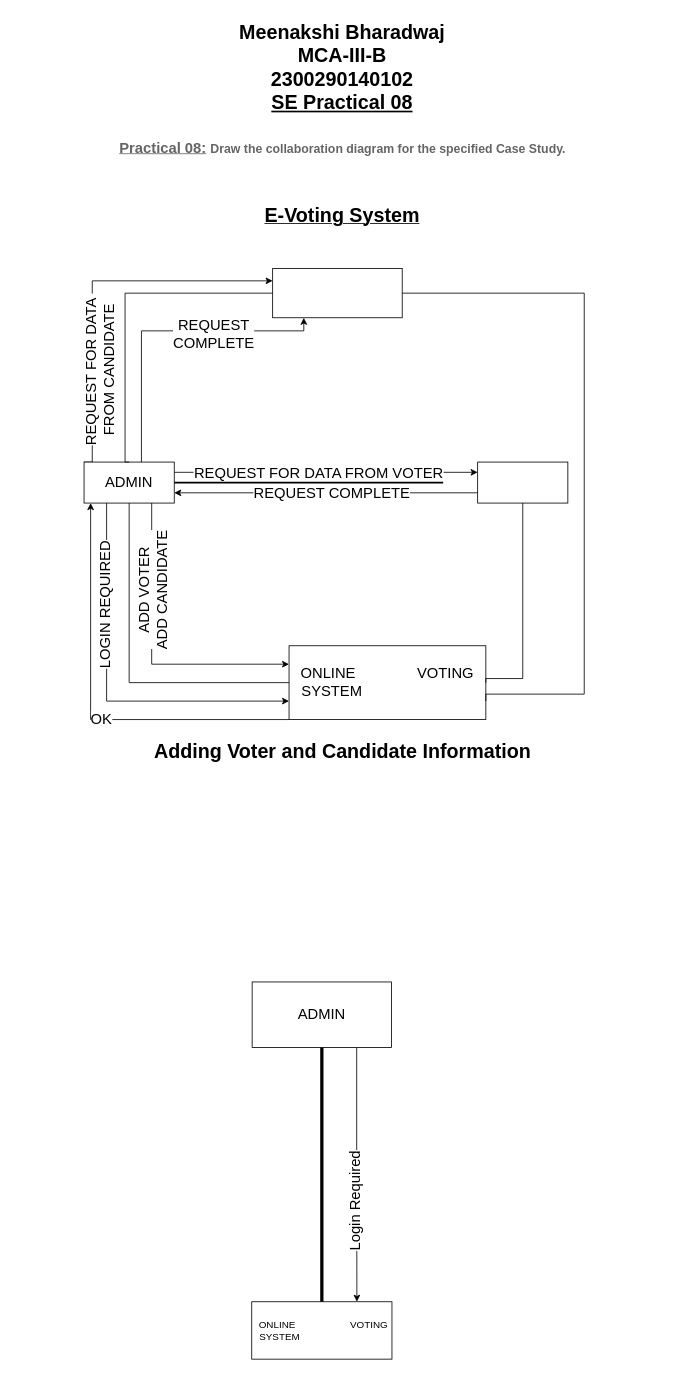
Image size: 684x1374. Some labels were removed from this diagram. The shapes that lost their labels are listed below. From the top down, each one's centre as x and y in pixels, then its label:
(337,293): CANDIDATE
(522,482): VOTER
